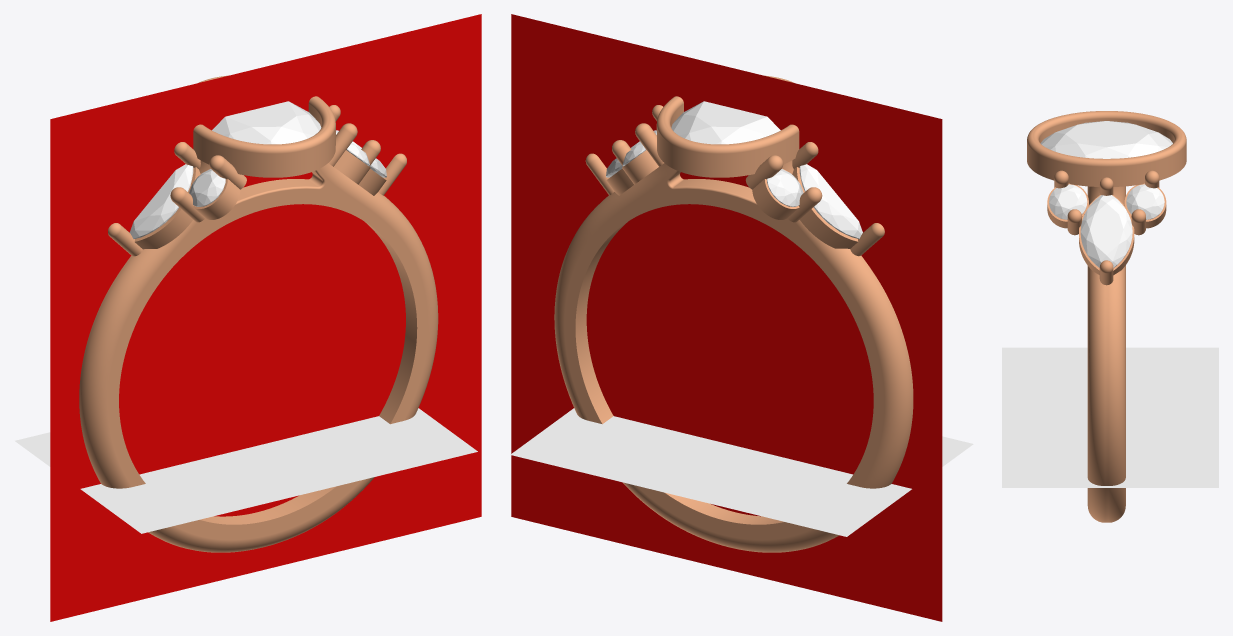
The model's file is LRS-03.glb.
3 views of the same model, side by side, from view 1: azimuth 30°, elevation 25°; view 2: azimuth 150°, elevation 25°; view 3: azimuth 270°, elevation 25° (orthographic). The views are drawn at different scales.
Visible parts, largest first — view 1: LRS-033dm, Diamond_Oval, Diamond_Marquise_1, Diamond_Round_2; view 2: LRS-033dm, Diamond_Oval, Diamond_Marquise_1, Diamond_Round_3; view 3: LRS-033dm, Diamond_Oval, Diamond_Marquise, Diamond_Round_1, Diamond_Round.
Part boxes in pixels (left/top/right/bottom): LRS-033dm: left=15, top=14, right=481, bottom=621; Diamond_Oval: left=212, top=101, right=321, bottom=144; Diamond_Marquise_1: left=129, top=164, right=193, bottom=238; Diamond_Round_2: left=189, top=169, right=225, bottom=206; LRS-033dm: left=510, top=14, right=973, bottom=621; Diamond_Oval: left=671, top=101, right=780, bottom=144; Diamond_Marquise_1: left=799, top=164, right=862, bottom=238; Diamond_Round_3: left=767, top=169, right=803, bottom=206; LRS-033dm: left=1002, top=111, right=1218, bottom=522; Diamond_Oval: left=1040, top=121, right=1172, bottom=158; Diamond_Marquise: left=1080, top=195, right=1132, bottom=267; Diamond_Round_1: left=1049, top=184, right=1087, bottom=219; Diamond_Round: left=1126, top=184, right=1164, bottom=219.
Size of the model in its own units: 3.02 by 3.36 by 1.54.
